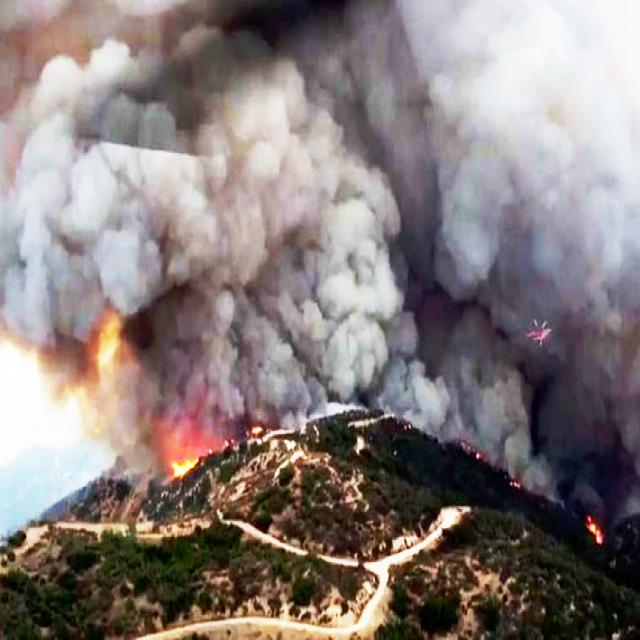api: (590, 516, 605, 545), (177, 459, 195, 478)
asap: (1, 4, 639, 514)
